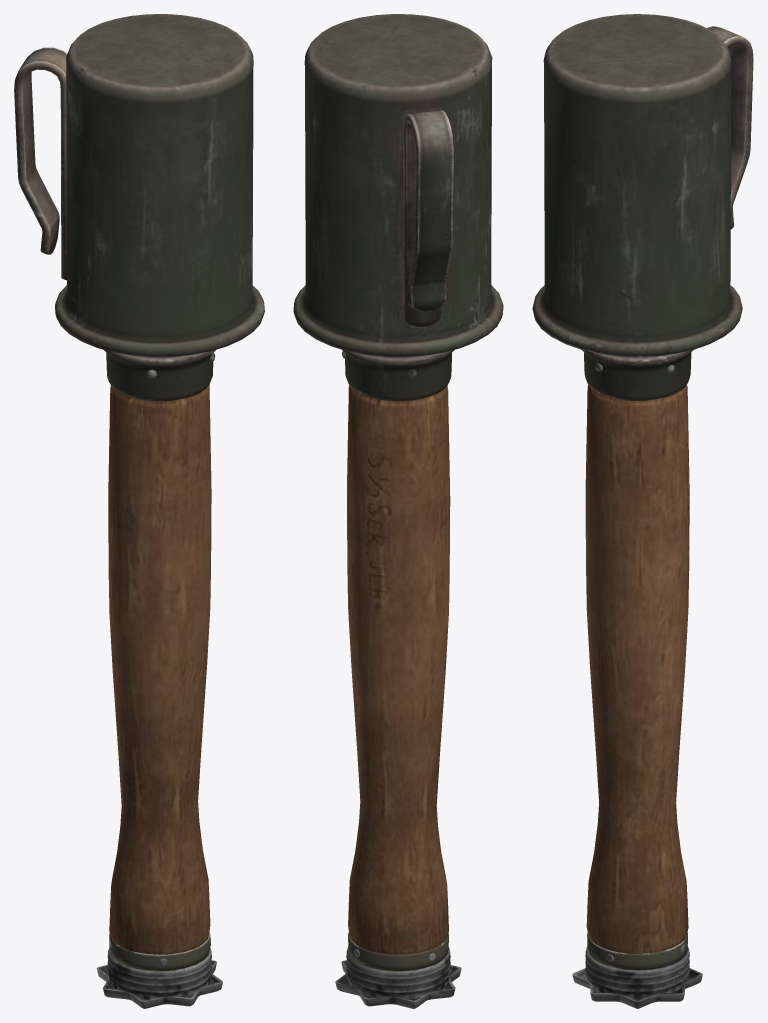
The model's file is grenade.glb.
3 views of the same model, side by side, from view 1: azimuth 30°, elevation 25°; view 2: azimuth 150°, elevation 25°; view 3: azimuth 270°, elevation 25° (orthographic).
Visible parts, largest first — view 1: stick_grenade_LOD0; view 2: stick_grenade_LOD0; view 3: stick_grenade_LOD0.
Boxes of the visible parts, box(x1,y1,x2,y2) form: stick_grenade_LOD0: box(14, 14, 264, 1008); stick_grenade_LOD0: box(293, 14, 503, 1008); stick_grenade_LOD0: box(532, 14, 753, 1008).
Bounding box in the file's own units: 0.0814 × 0.3794 × 0.0814.
Materials: 1 (1 with a texture image).
